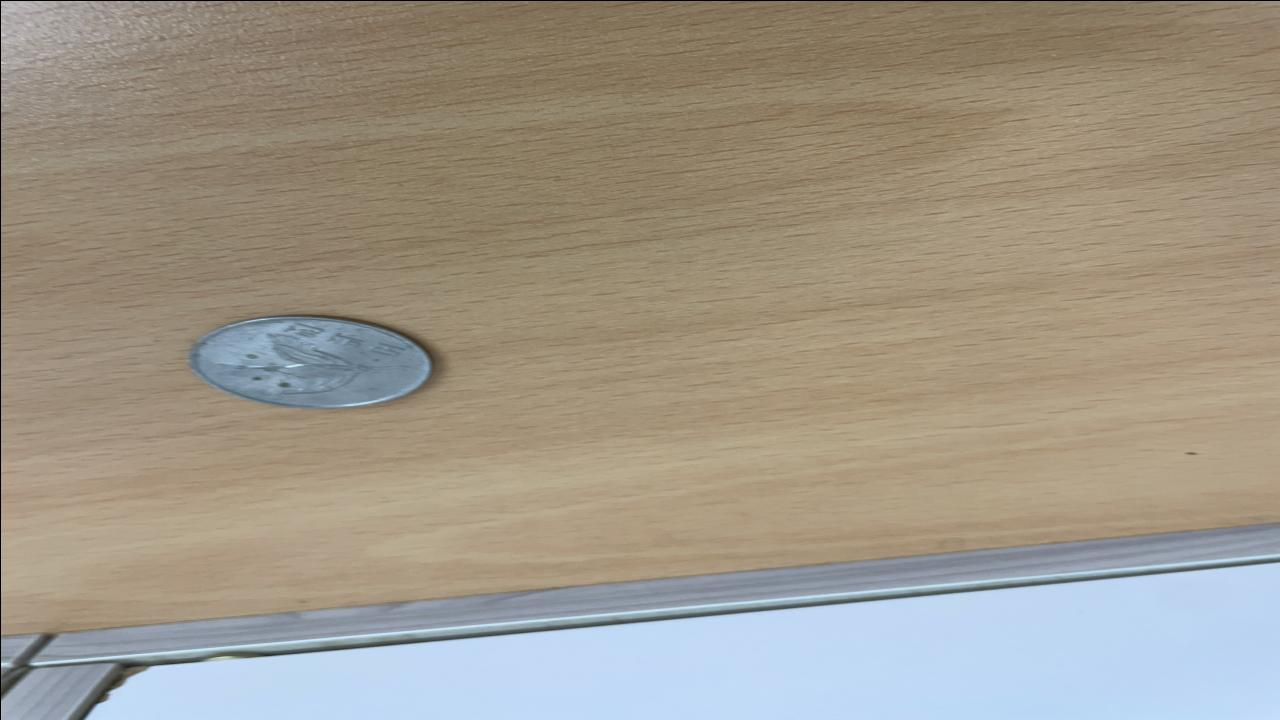coin: (180, 313, 440, 412)
